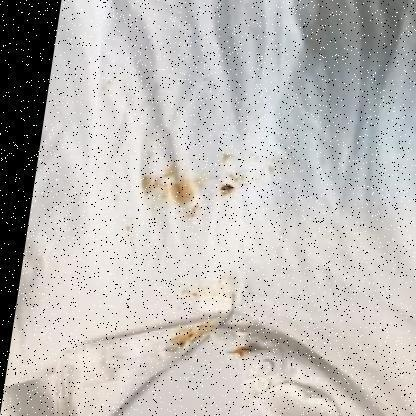coffee: (171, 182, 194, 205), (175, 331, 200, 344)
